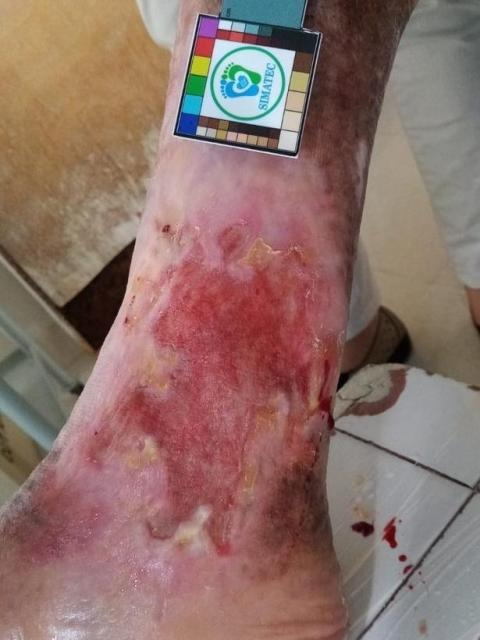wound: (83, 223, 345, 557)
